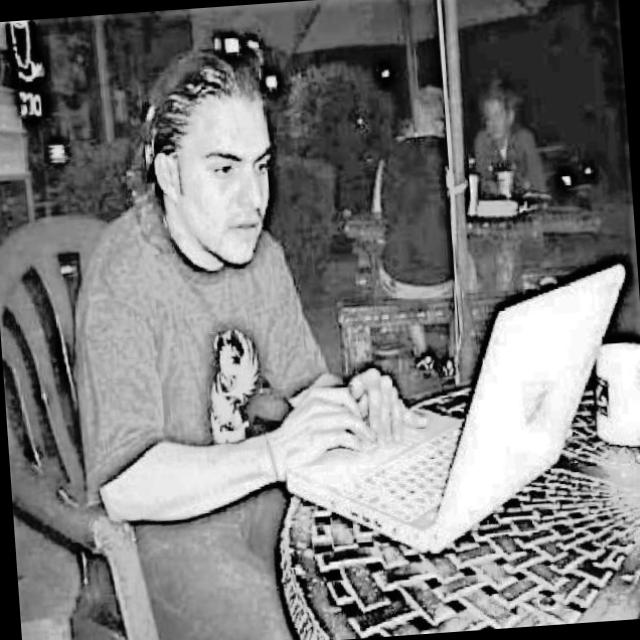Person: (52, 31, 434, 536)
